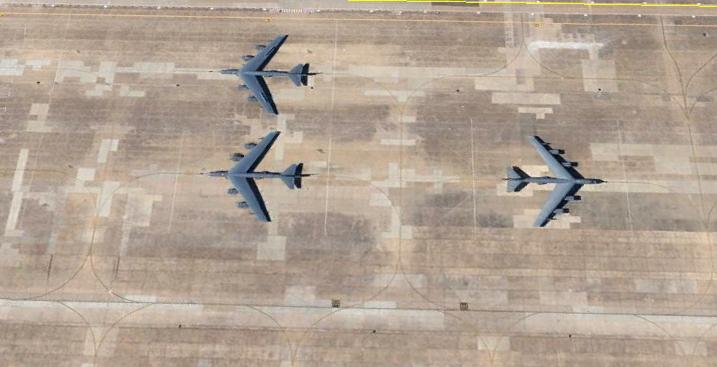B-52: (206, 128, 311, 225), (502, 132, 599, 230), (222, 32, 311, 114)
